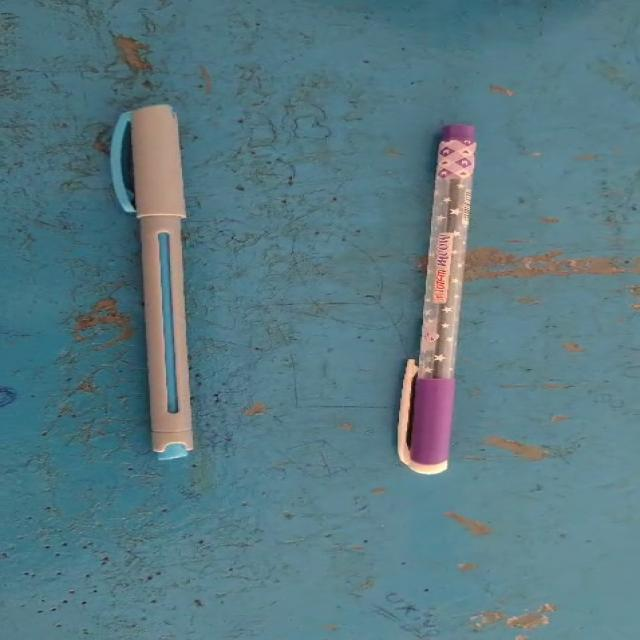pen: (62, 87, 259, 479), (375, 76, 518, 497)
